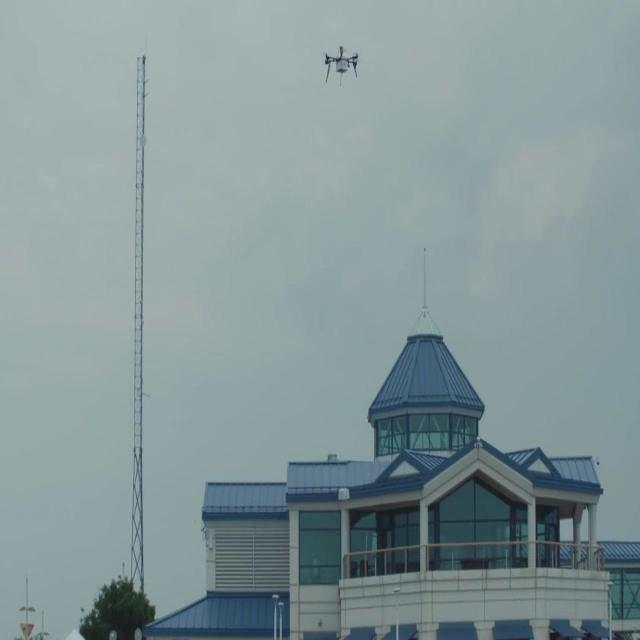UAV: (322, 46, 360, 86)
